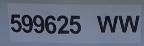2: (57, 15, 68, 35)
5: (9, 12, 22, 33), (69, 15, 82, 34)
6: (44, 13, 57, 34)
9: (33, 14, 45, 33), (21, 13, 32, 33)
w: (96, 15, 116, 33), (119, 15, 139, 33)
